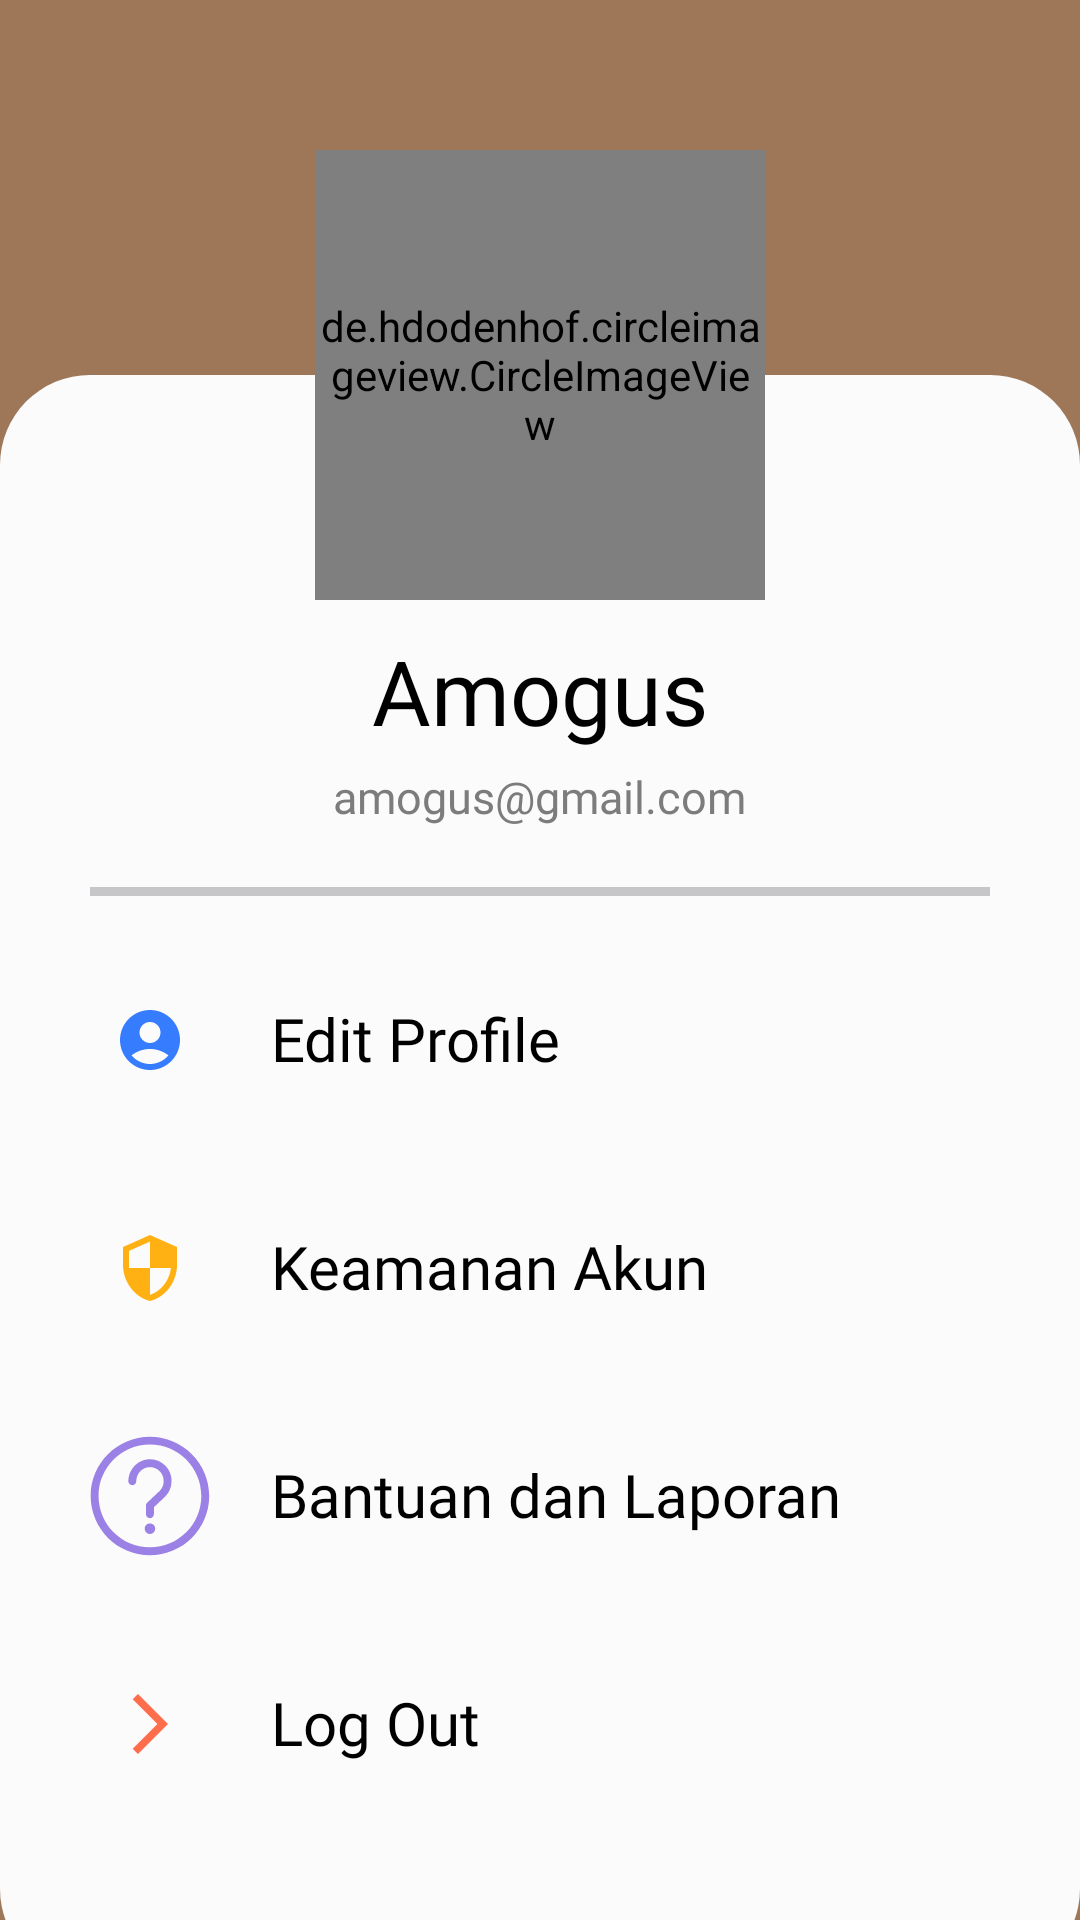

Named icons in this screenshot (1080px×1920px) and their bounding boxes, (x1, y1, x2, y2):
account: (120, 1010, 180, 1070)
arrow forward: (133, 1694, 168, 1754)
question mark: (90, 1436, 209, 1556)
security: (123, 1235, 177, 1301)
